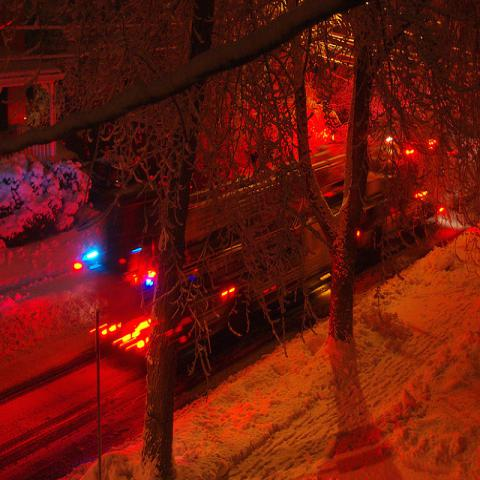truck: (73, 138, 442, 376)
